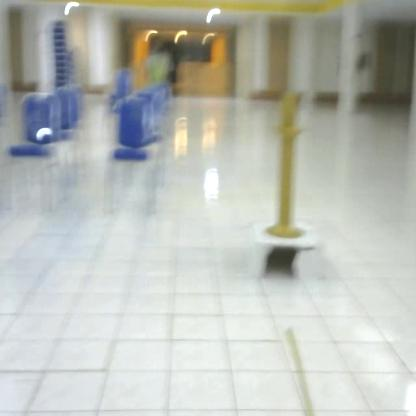pole: (259, 85, 316, 243)
